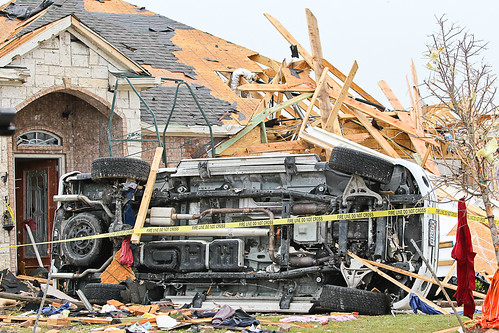building: (2, 5, 456, 171)
car: (45, 170, 446, 312)
tree: (419, 34, 499, 263)
